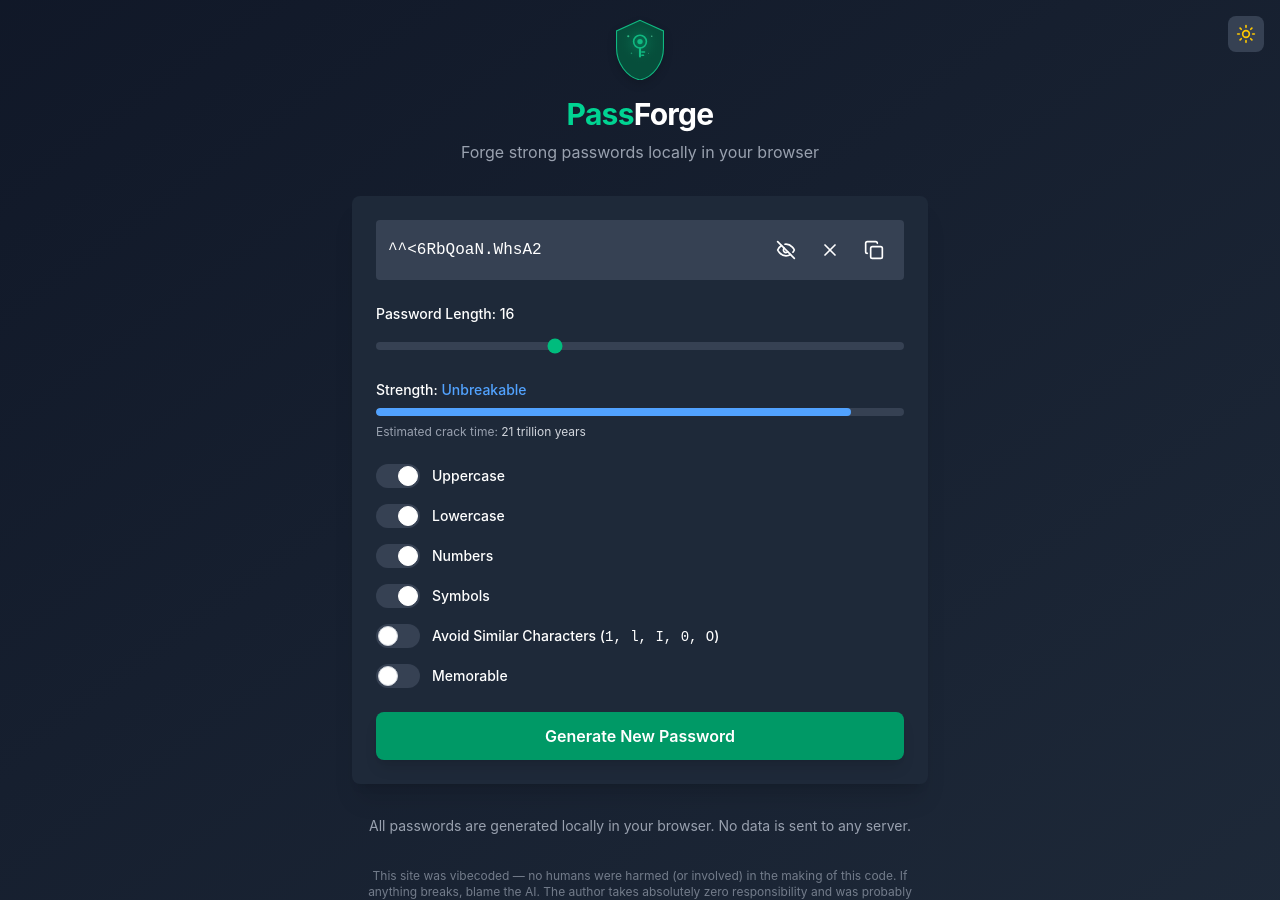
it: App component › toggles checkbox options and regenerates password
Toggle the "memorable" checkbox (last one)
Click the checkbox labelled "Memorable" at (442, 676), box [376,664,508,688]
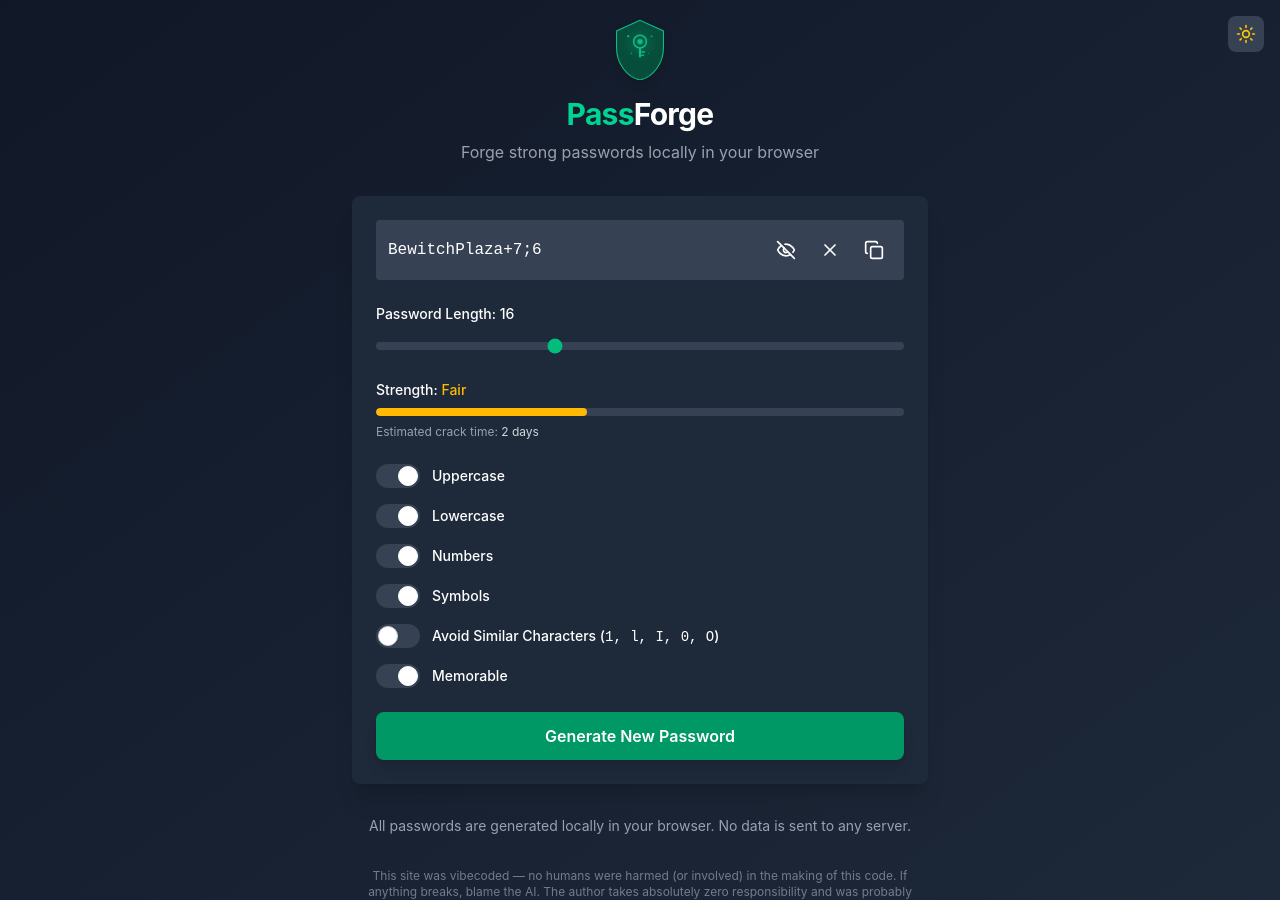
Expected: the field with placeholder "Generated password will appear here" is not empty, [388,238,760,262]
